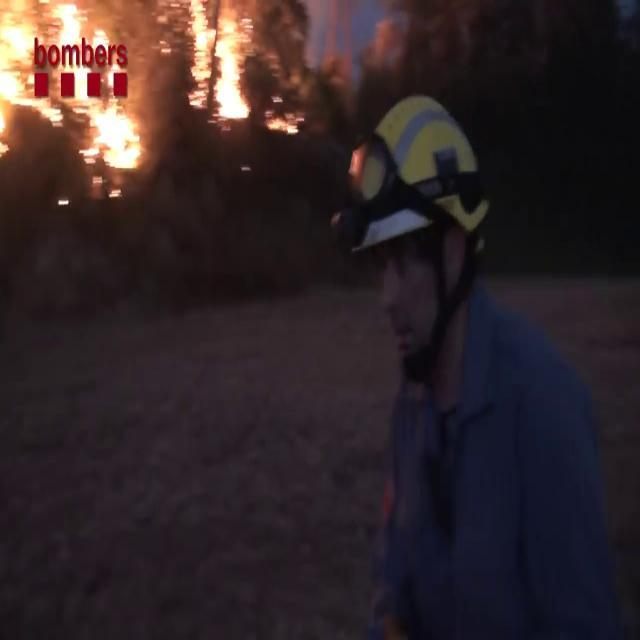Fire: (0, 0, 146, 174), (183, 1, 259, 122)
